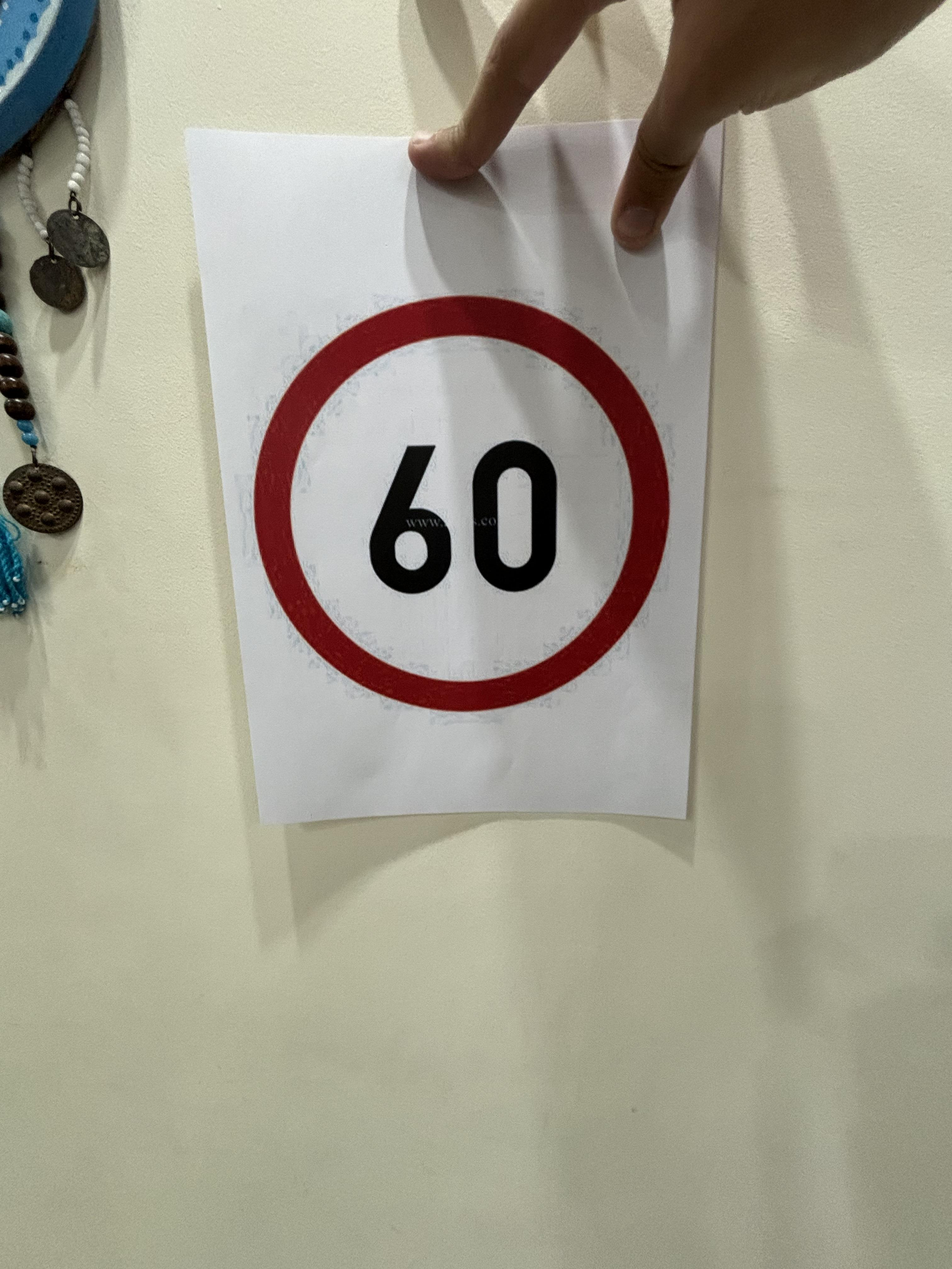60-Speed: (234, 284, 677, 717)
